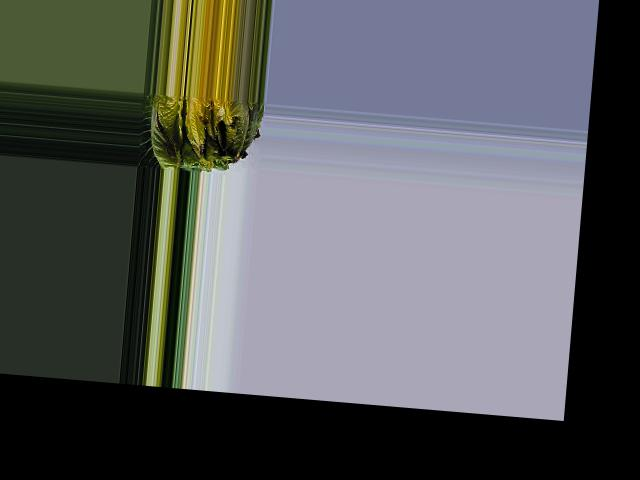lettuce: (137, 92, 260, 174)
